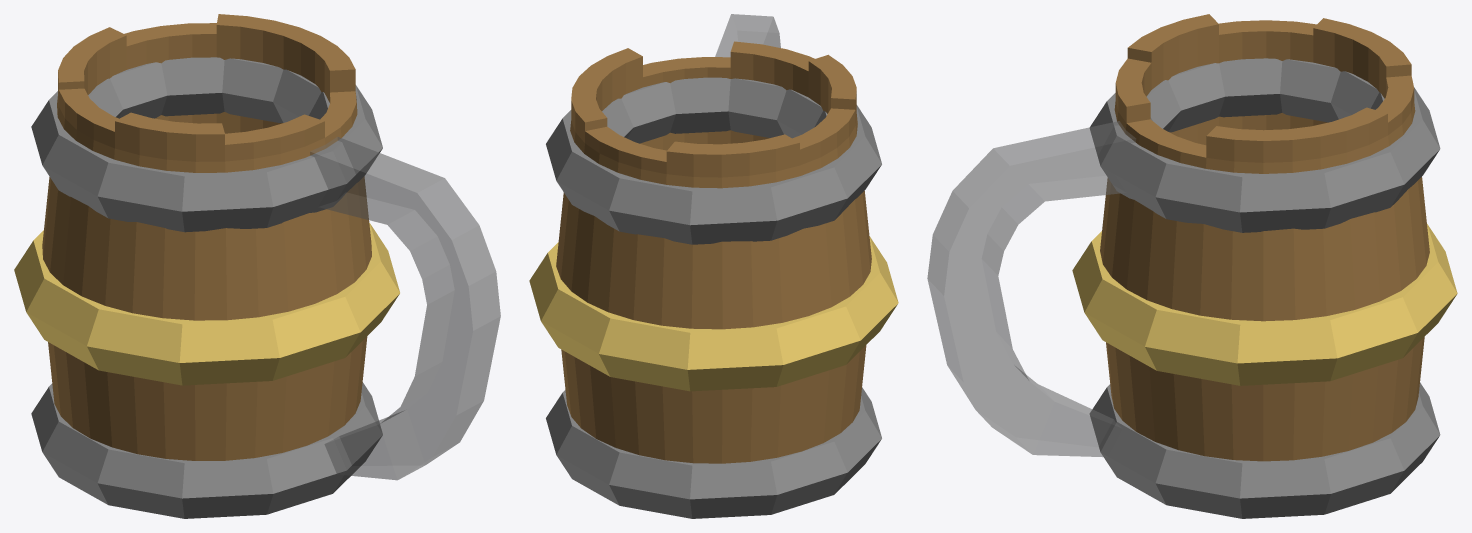
Rendered from EmptyMug.fbx.
The picture shows the model from 3 angles, left to right: view 1: azimuth 30°, elevation 25°; view 2: azimuth 150°, elevation 25°; view 3: azimuth 270°, elevation 25°; orthographic projection. The views are drawn at different scales.
Visible parts, largest first — view 1: Cubo.032; view 2: Cubo.032; view 3: Cubo.032.
Part boxes in pixels (x1=…): Cubo.032: x1=14, y1=14, x2=500, y2=518; Cubo.032: x1=529, y1=14, x2=898, y2=518; Cubo.032: x1=927, y1=14, x2=1457, y2=518.
Bounding box in the file's own units: 51.65 × 56.16 × 71.07.
